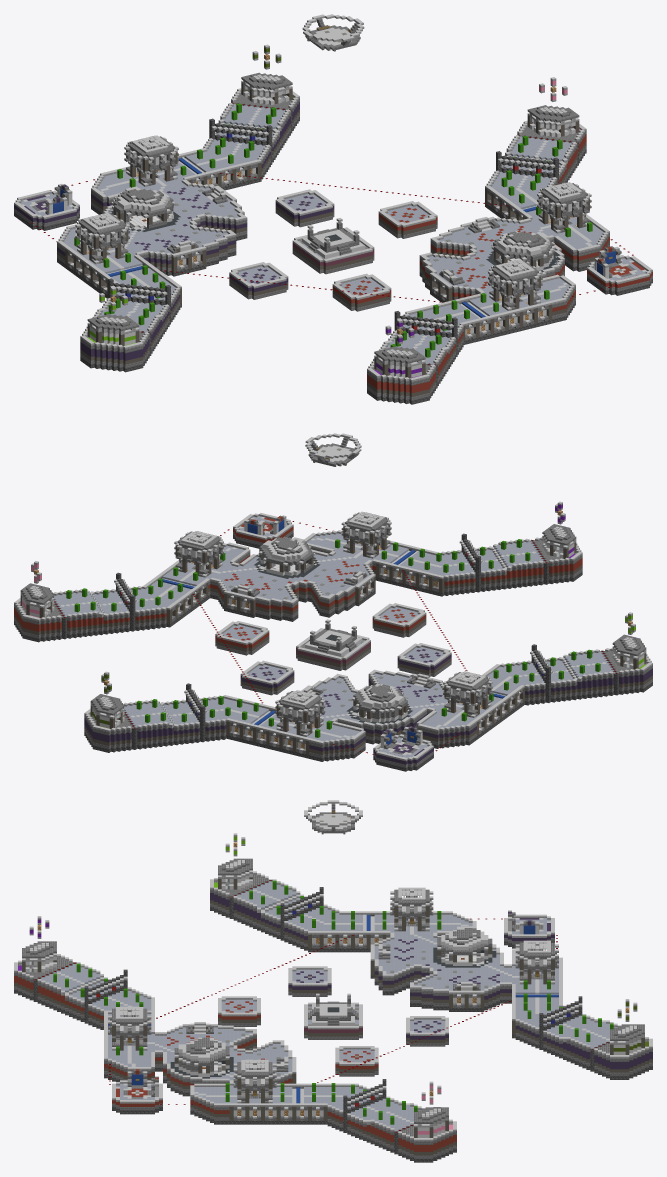
File: minecraft.obj
3 renders of one model, top to bottom at view 1: azimuth 30°, elevation 25°; view 2: azimuth 150°, elevation 25°; view 3: azimuth 270°, elevation 25°, orthographic. The views are drawn at different scales.
Bounding box in the file's own units: 163 × 60.5 × 163.
